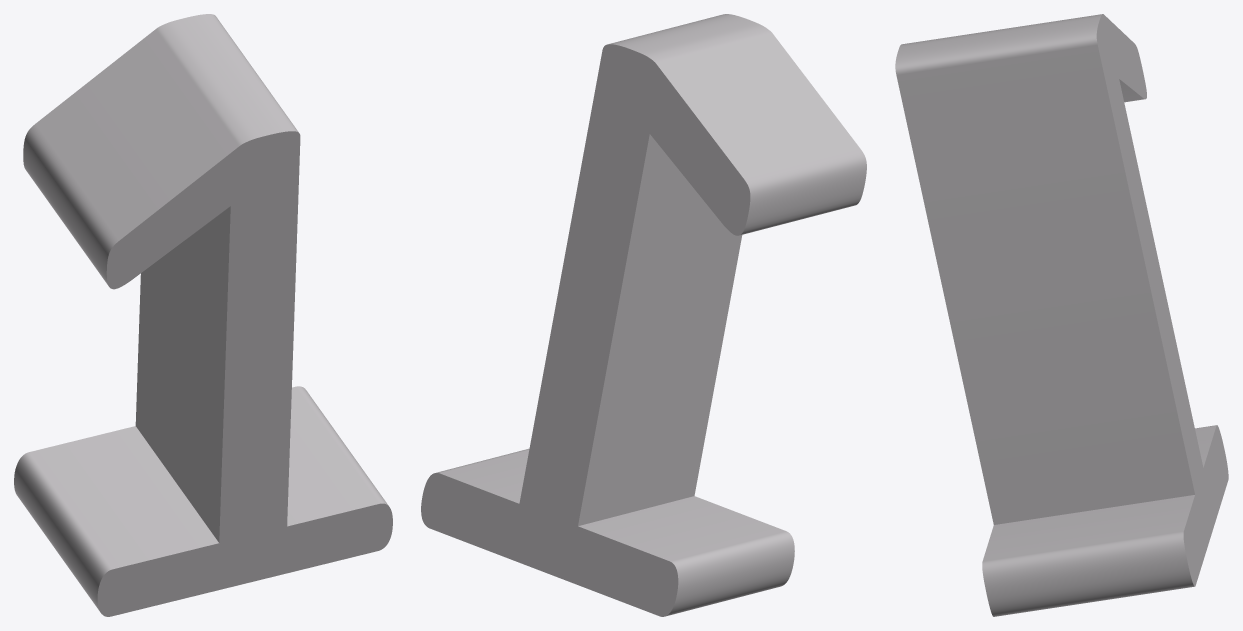
3 views of the same model, side by side, from view 1: azimuth 30°, elevation 25°; view 2: azimuth 150°, elevation 25°; view 3: azimuth 270°, elevation 25° (orthographic).
Parts seen in each view (by area): view 1: node_id83; view 2: node_id83; view 3: node_id83.
Part boxes in pixels (x1=…): node_id83: x1=14, y1=14, x2=392, y2=616; node_id83: x1=421, y1=14, x2=866, y2=616; node_id83: x1=895, y1=14, x2=1228, y2=616.
Bounding box in the file's own units: 0.0273 × 0.0435 × 0.0242.
1 material, 1 textured.
